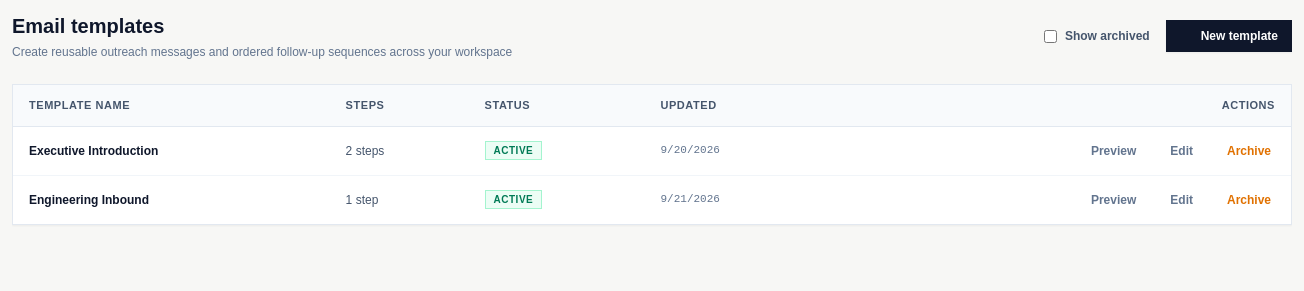
Test: TemplateManager › fetches templates with includeArchived=true when archive toggle is enabled
Expected: the text "Executive Introduction" is shown, left=13, top=126, right=330, bottom=175
What coordinates should you click on to do the following:
click the checkbox labelled "Show archived"
I would click on:
 (1050, 36)
Its box is left=1044, top=30, right=1057, bottom=42.
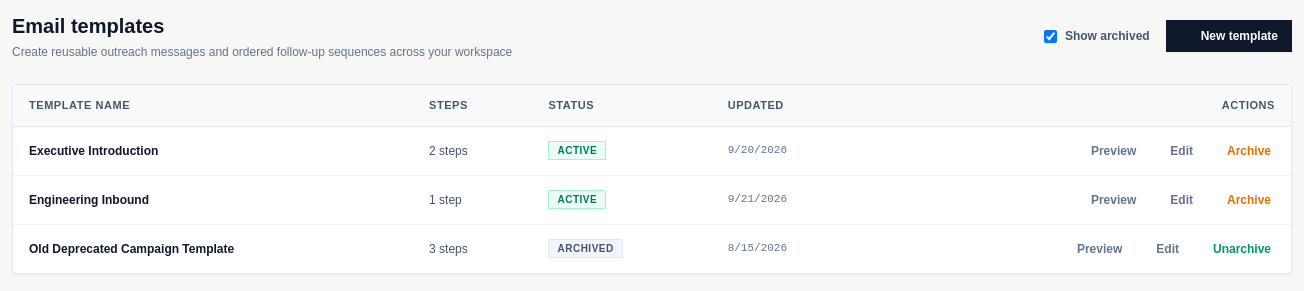
Expected: the text "Old Deprecated Campaign Template" is shown, left=13, top=224, right=413, bottom=272
